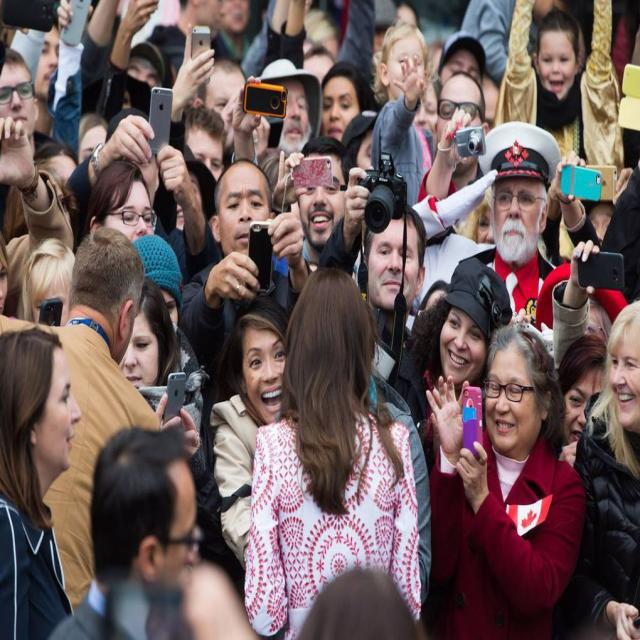body: (0, 0, 639, 380), (236, 262, 434, 639), (0, 224, 163, 617), (427, 317, 589, 639), (407, 119, 567, 368), (178, 156, 314, 419), (47, 421, 205, 640), (492, 0, 625, 259), (116, 276, 215, 565), (0, 324, 83, 640), (317, 162, 429, 383), (569, 296, 640, 640), (208, 295, 294, 576), (396, 254, 514, 436), (370, 19, 436, 210), (0, 46, 61, 219), (294, 564, 423, 639), (296, 134, 355, 273), (192, 46, 252, 166), (258, 56, 323, 161), (433, 69, 489, 185), (319, 60, 374, 145)
